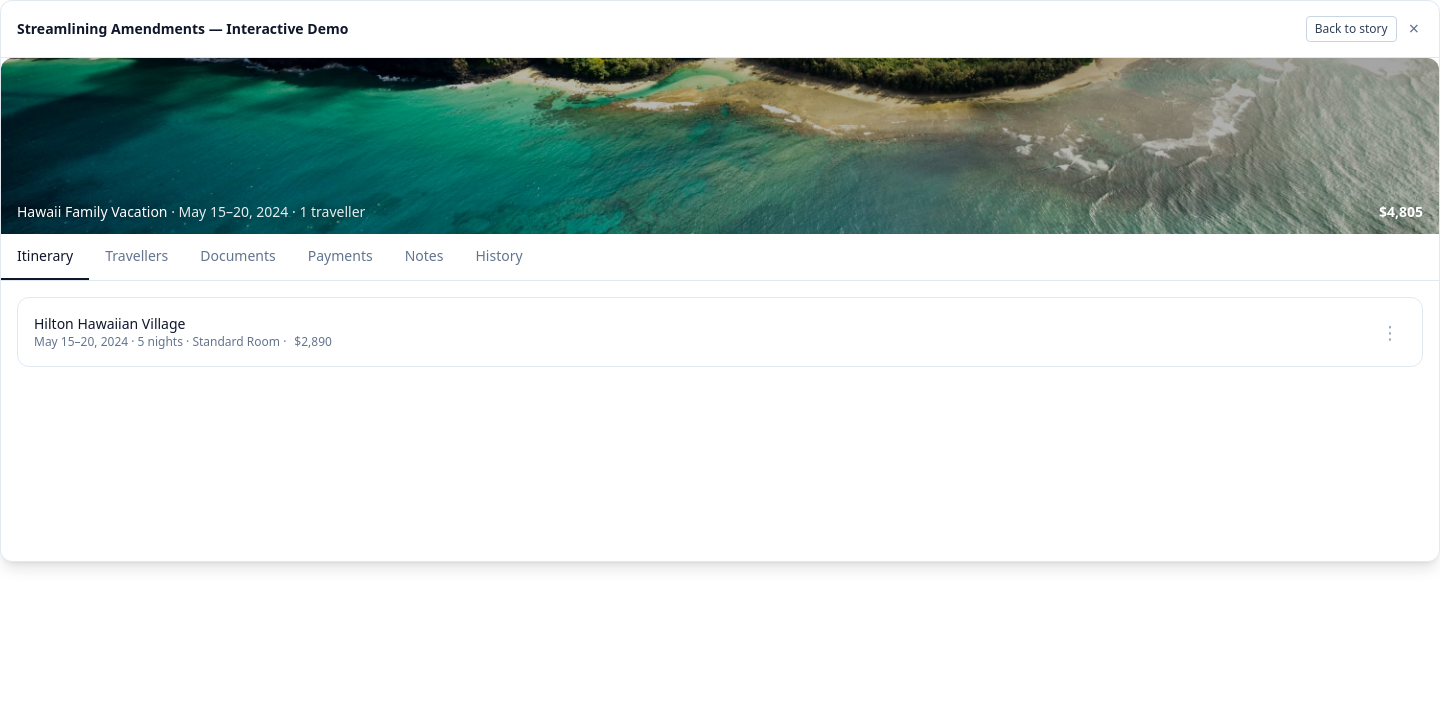
Test: Dream flow – edge cases › AI tab "Use" applies largest available segment
Step 1. Click the button named "Actions" → (1390, 332), box [1374, 316, 1406, 348]
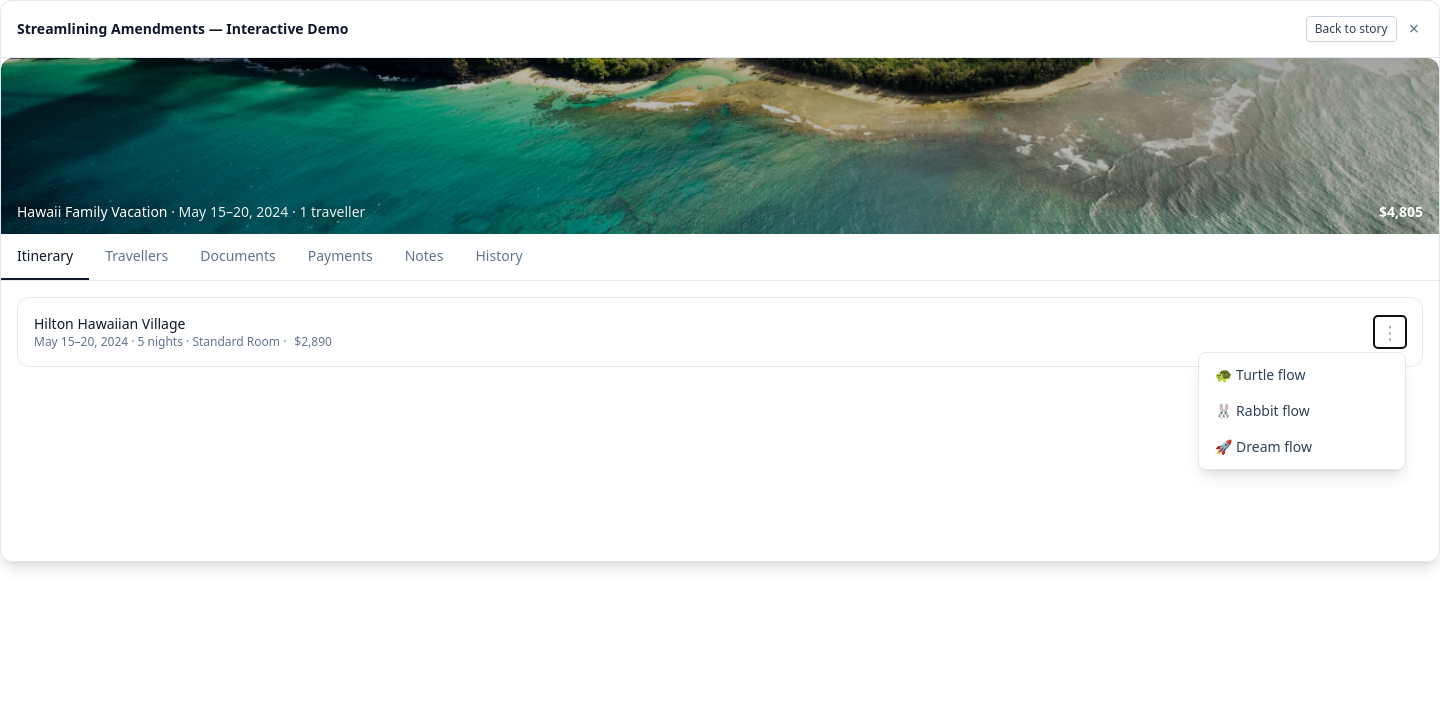
Step 2. Click the button "🚀 Dream flow" → (1302, 447), box [1199, 429, 1405, 465]
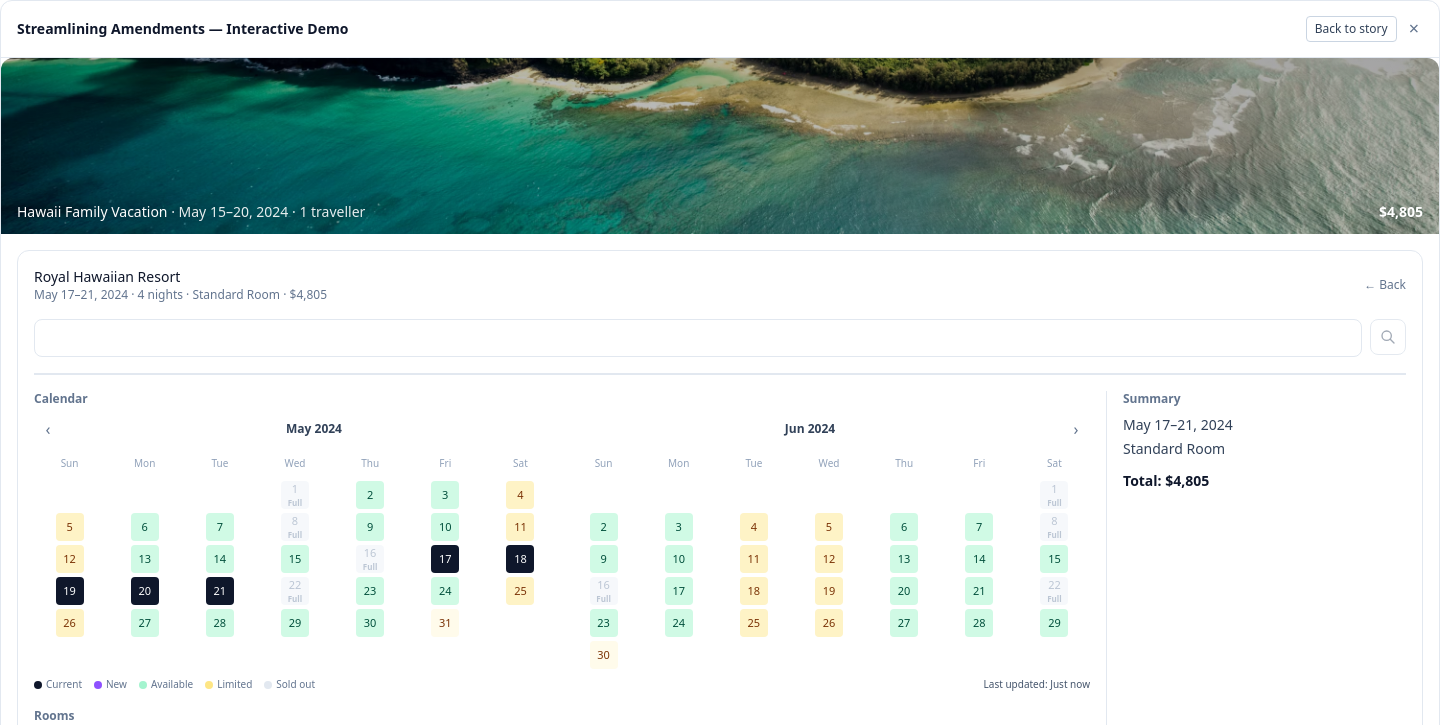
Check: the text "May 17–21, 2024 · 4 nights · Standard Room · $4,805" is shown, box [34, 286, 327, 303]
Step 3. Click the 1st button "15" → (295, 559), box [281, 545, 309, 573]
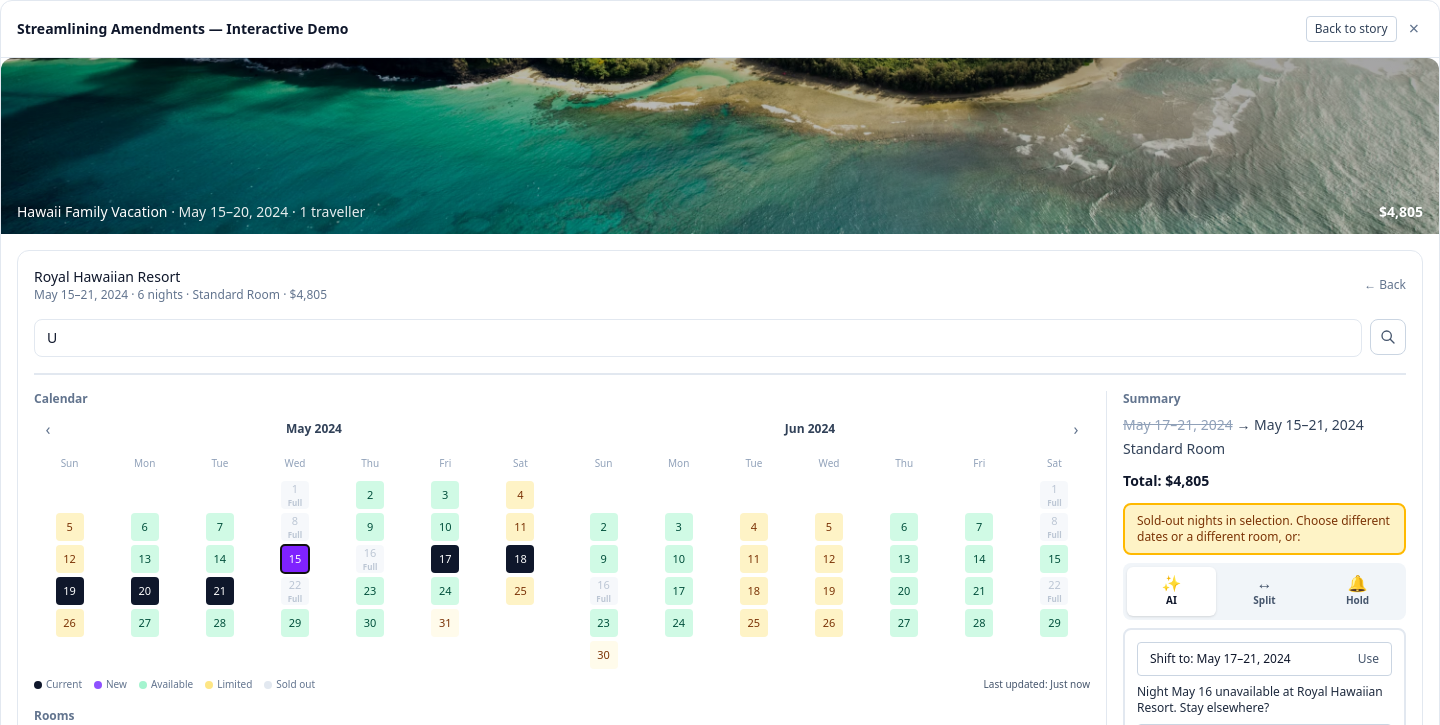
Check: the text "Sold-out nights in selection" is shown, box [1137, 512, 1390, 545]
// Click "Use" on the shift-to segment – applies May 17–21 (largest available)
Step 4. Click the button "Shift to: May 17–21, 2024 Use" → (1264, 659), box [1137, 642, 1392, 676]
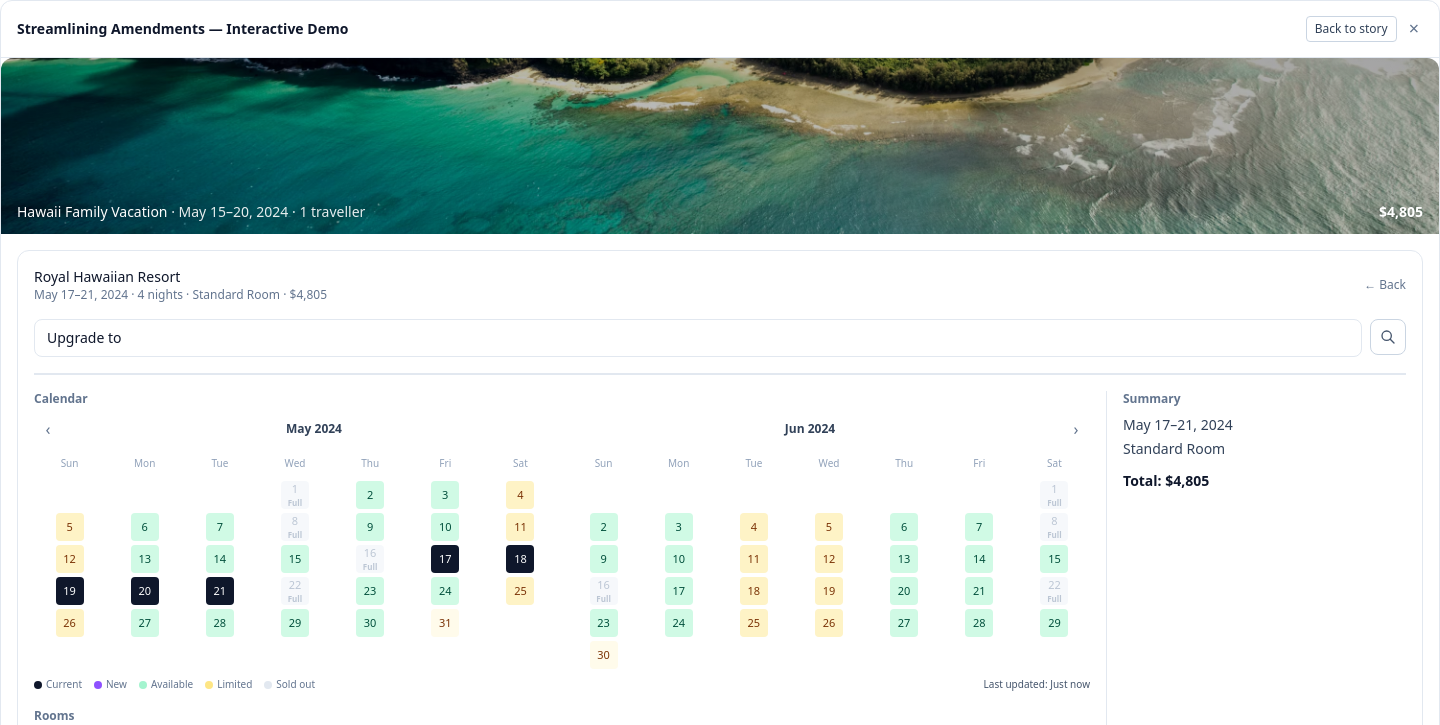
Check: the text "May 17–21, 2024 · 4 nights · Standard Room · $4,805" is shown, box [34, 286, 327, 303]
Check: the text "Sold-out nights in selection" is gone
